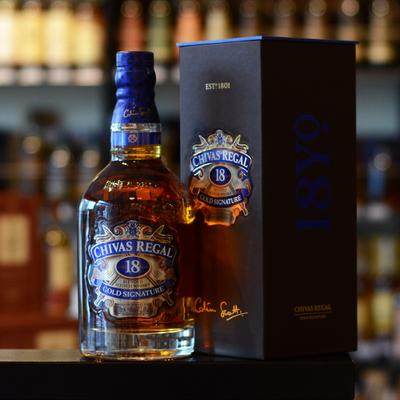Chivas Regal: (65, 40, 209, 369)
